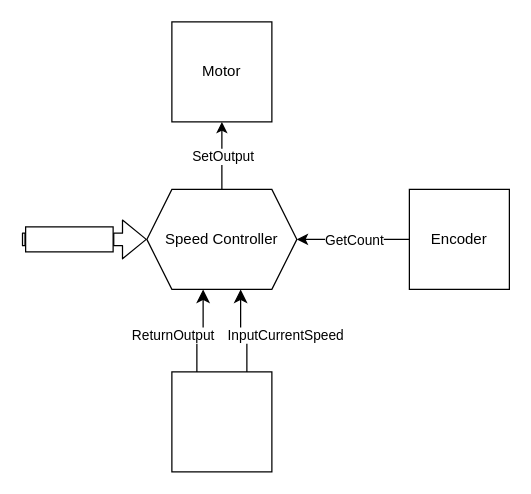
The diagram is 531 pixels wide and 494 high, and some of its shapes have lost their labels. The box of each missing label's shape, as (x1, y1, x2, y2) in pixels:
PID: (171, 371, 272, 472)
SetSpeed: (24, 226, 113, 252)
